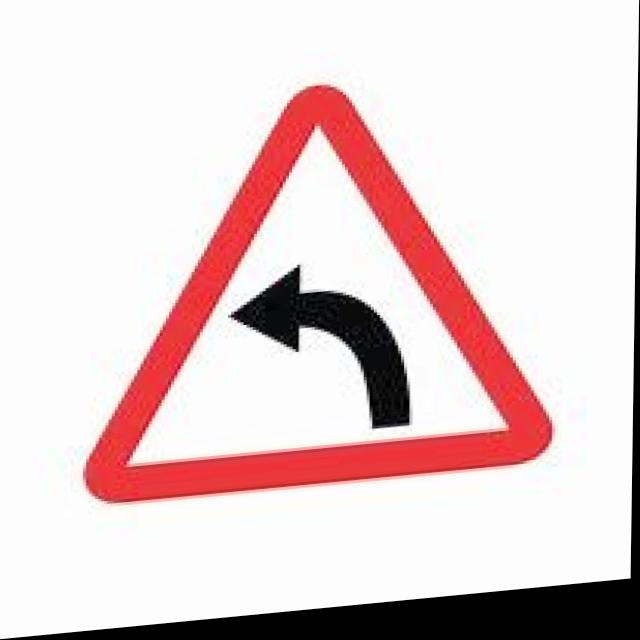LEFT_HAND_CURVE: (81, 70, 559, 510)
